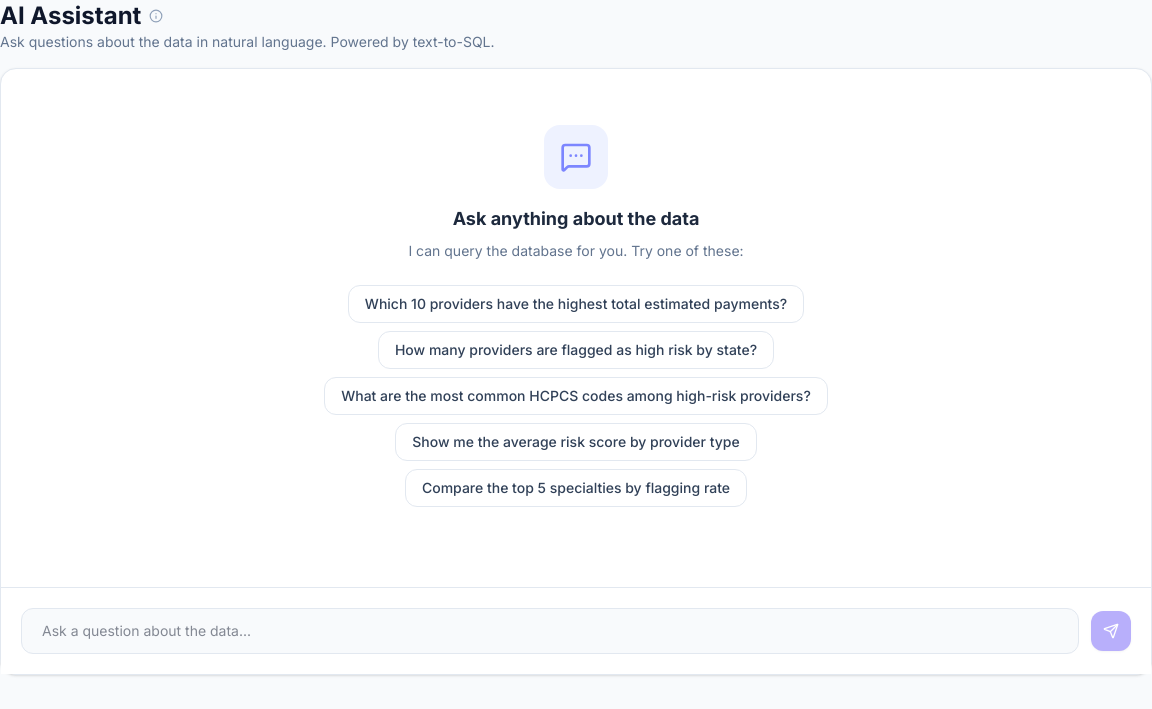
Test case: Analytics › renders a line chart response
This screenshot has width=1152, height=709.
Click the button "Show me the average risk score by provider type" at [576, 442], box [395,423,757,461]
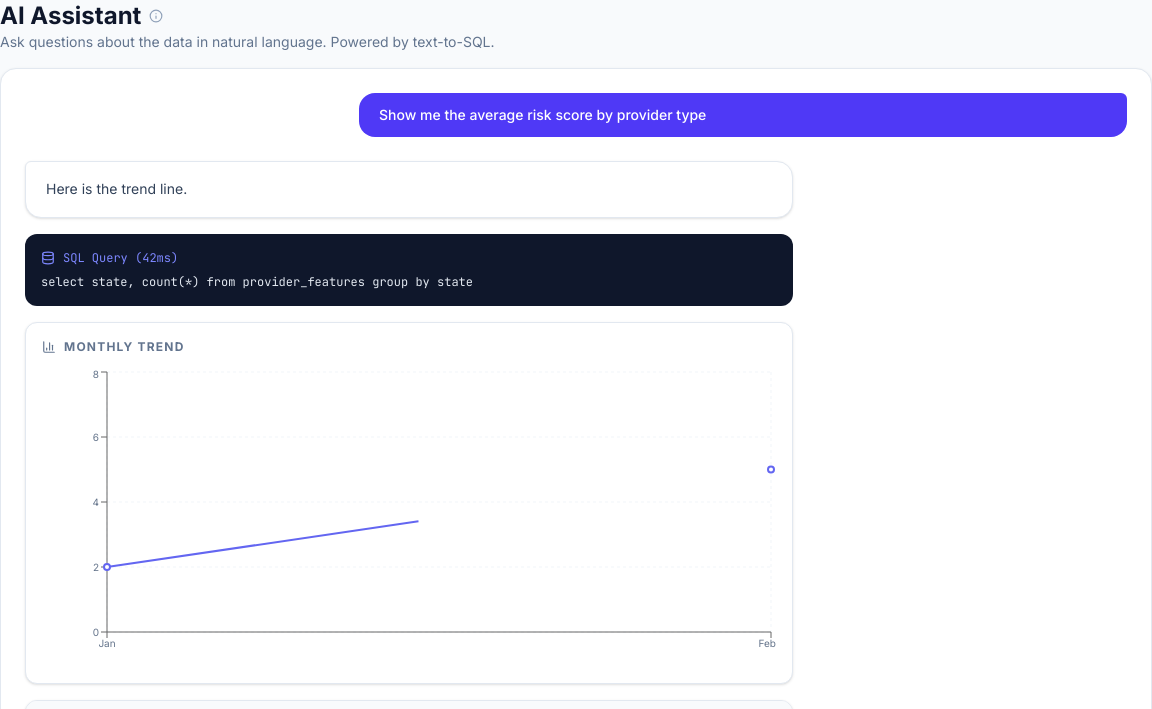
Check: the text "Monthly Trend" is shown, box [42,339,184,354]
